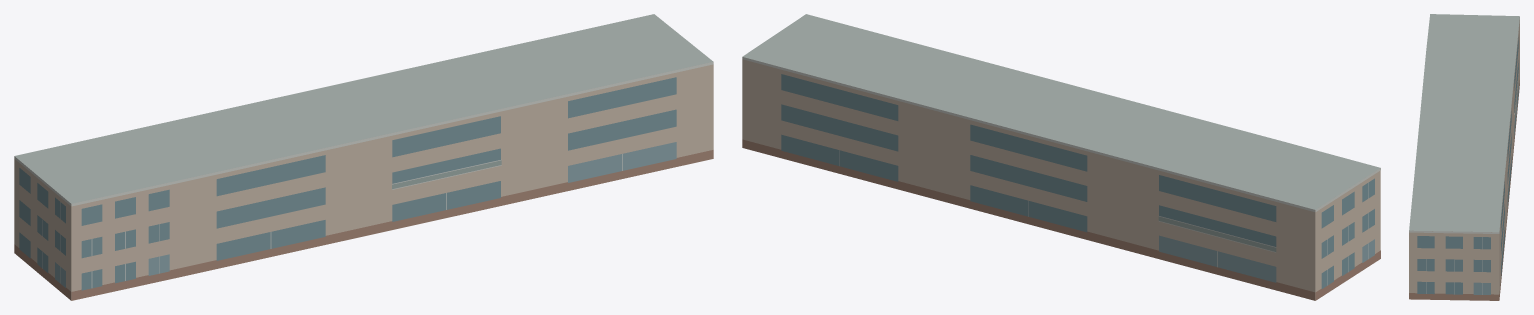
The model's file is survey-upis-33004450.glb.
3 renders of one model, left to right at view 1: azimuth 30°, elevation 25°; view 2: azimuth 150°, elevation 25°; view 3: azimuth 270°, elevation 25°, orthographic. The views are drawn at different scales.
Parts seen in each view (by area): view 1: survey-upis-33004450.tmp; view 2: survey-upis-33004450.tmp; view 3: survey-upis-33004450.tmp.
Boxes of the visible parts, x1,y1,x2,y2 form: survey-upis-33004450.tmp: (14,14,713,300); survey-upis-33004450.tmp: (742,14,1380,300); survey-upis-33004450.tmp: (1409,14,1519,300).
Size of the model in its own units: 62.36 by 9.15 by 13.39.
